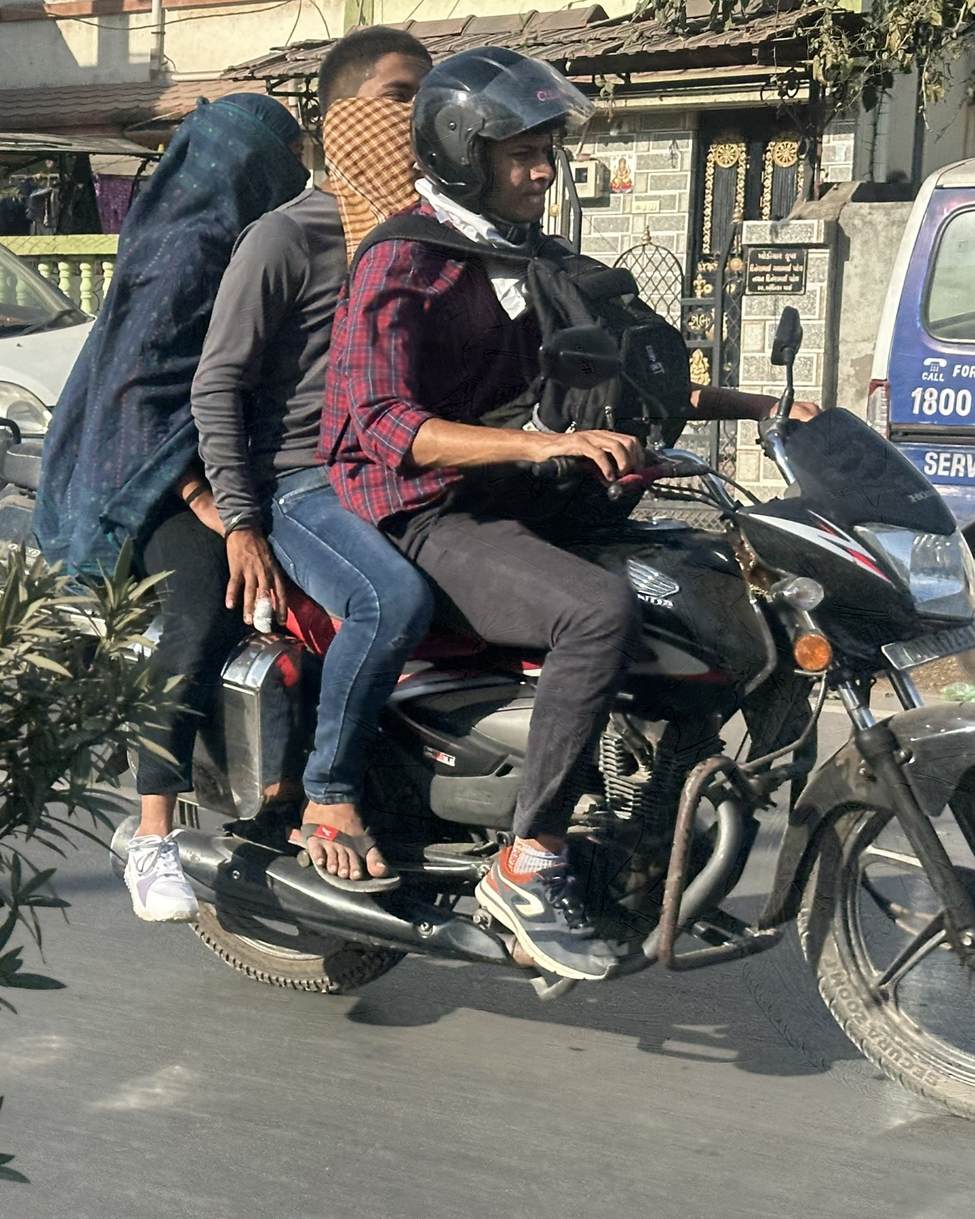BikeWithRider: (28, 19, 975, 1135)
Helmet: (166, 86, 314, 228)
NoHelmet: (402, 38, 595, 237), (305, 19, 446, 203)
